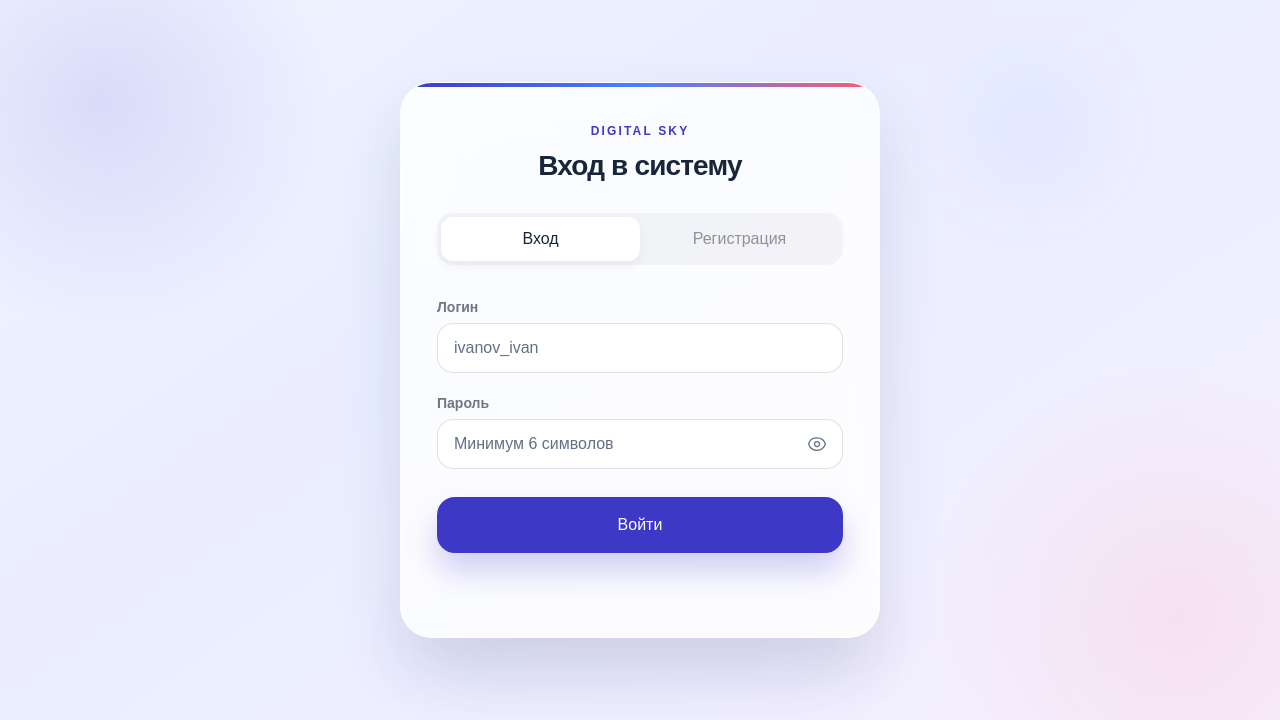
it: AuthPage › switches to registration variant
Click the button "Регистрация" at (740, 239), box x1=640 y1=217 x2=839 y2=261
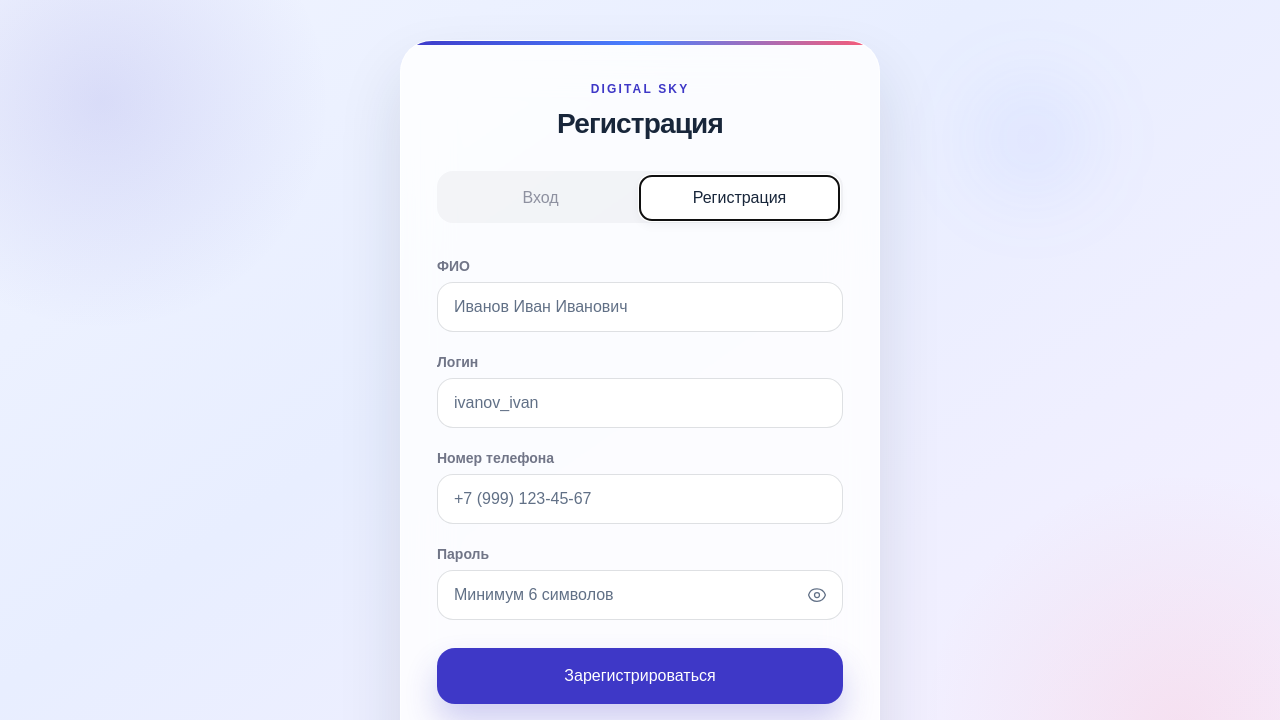
Now the heading "Регистрация" is shown, box x1=557 y1=108 x2=723 y2=139
Now the field labelled "ФИО" is shown, box x1=437 y1=282 x2=843 y2=332
Now the field labelled "Номер телефона" is shown, box x1=437 y1=474 x2=843 y2=524
